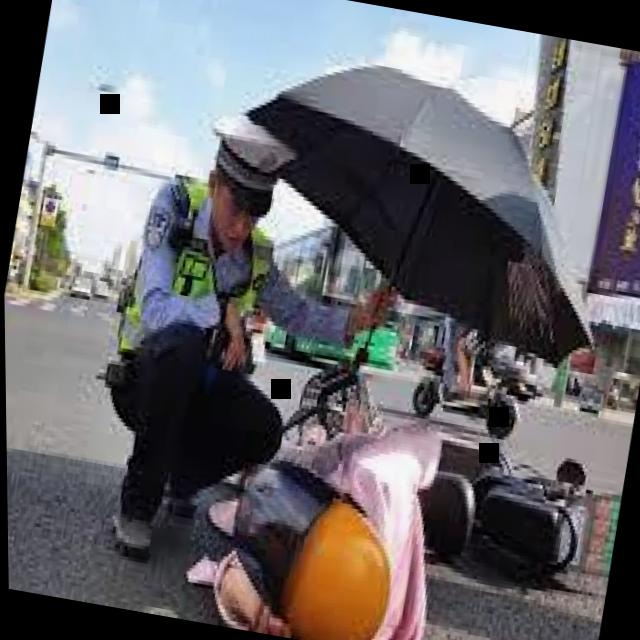Fall-Detected: (167, 370, 488, 640)
